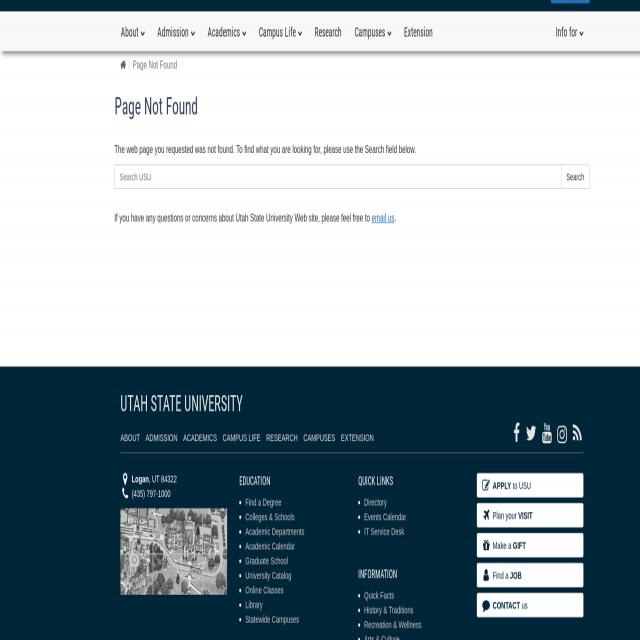button: (120, 508, 228, 595), (476, 472, 584, 498), (476, 562, 584, 588), (476, 503, 584, 528), (476, 533, 584, 558), (476, 593, 584, 618), (253, 12, 308, 52), (151, 12, 202, 52), (202, 12, 252, 52), (348, 12, 398, 51), (397, 12, 439, 52), (550, 12, 590, 52), (308, 12, 347, 52), (115, 13, 151, 52), (561, 164, 589, 190), (555, 419, 569, 446), (540, 418, 553, 446), (524, 419, 538, 444), (571, 420, 583, 446), (511, 419, 522, 444)
field: (115, 164, 561, 188)
